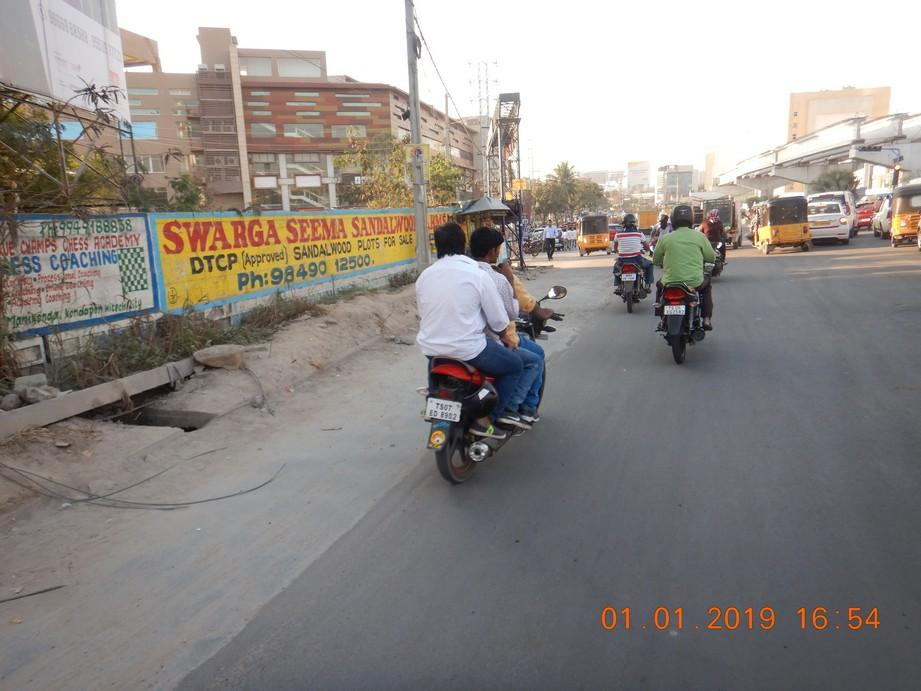plate: (426, 397, 460, 426), (662, 303, 688, 318)
